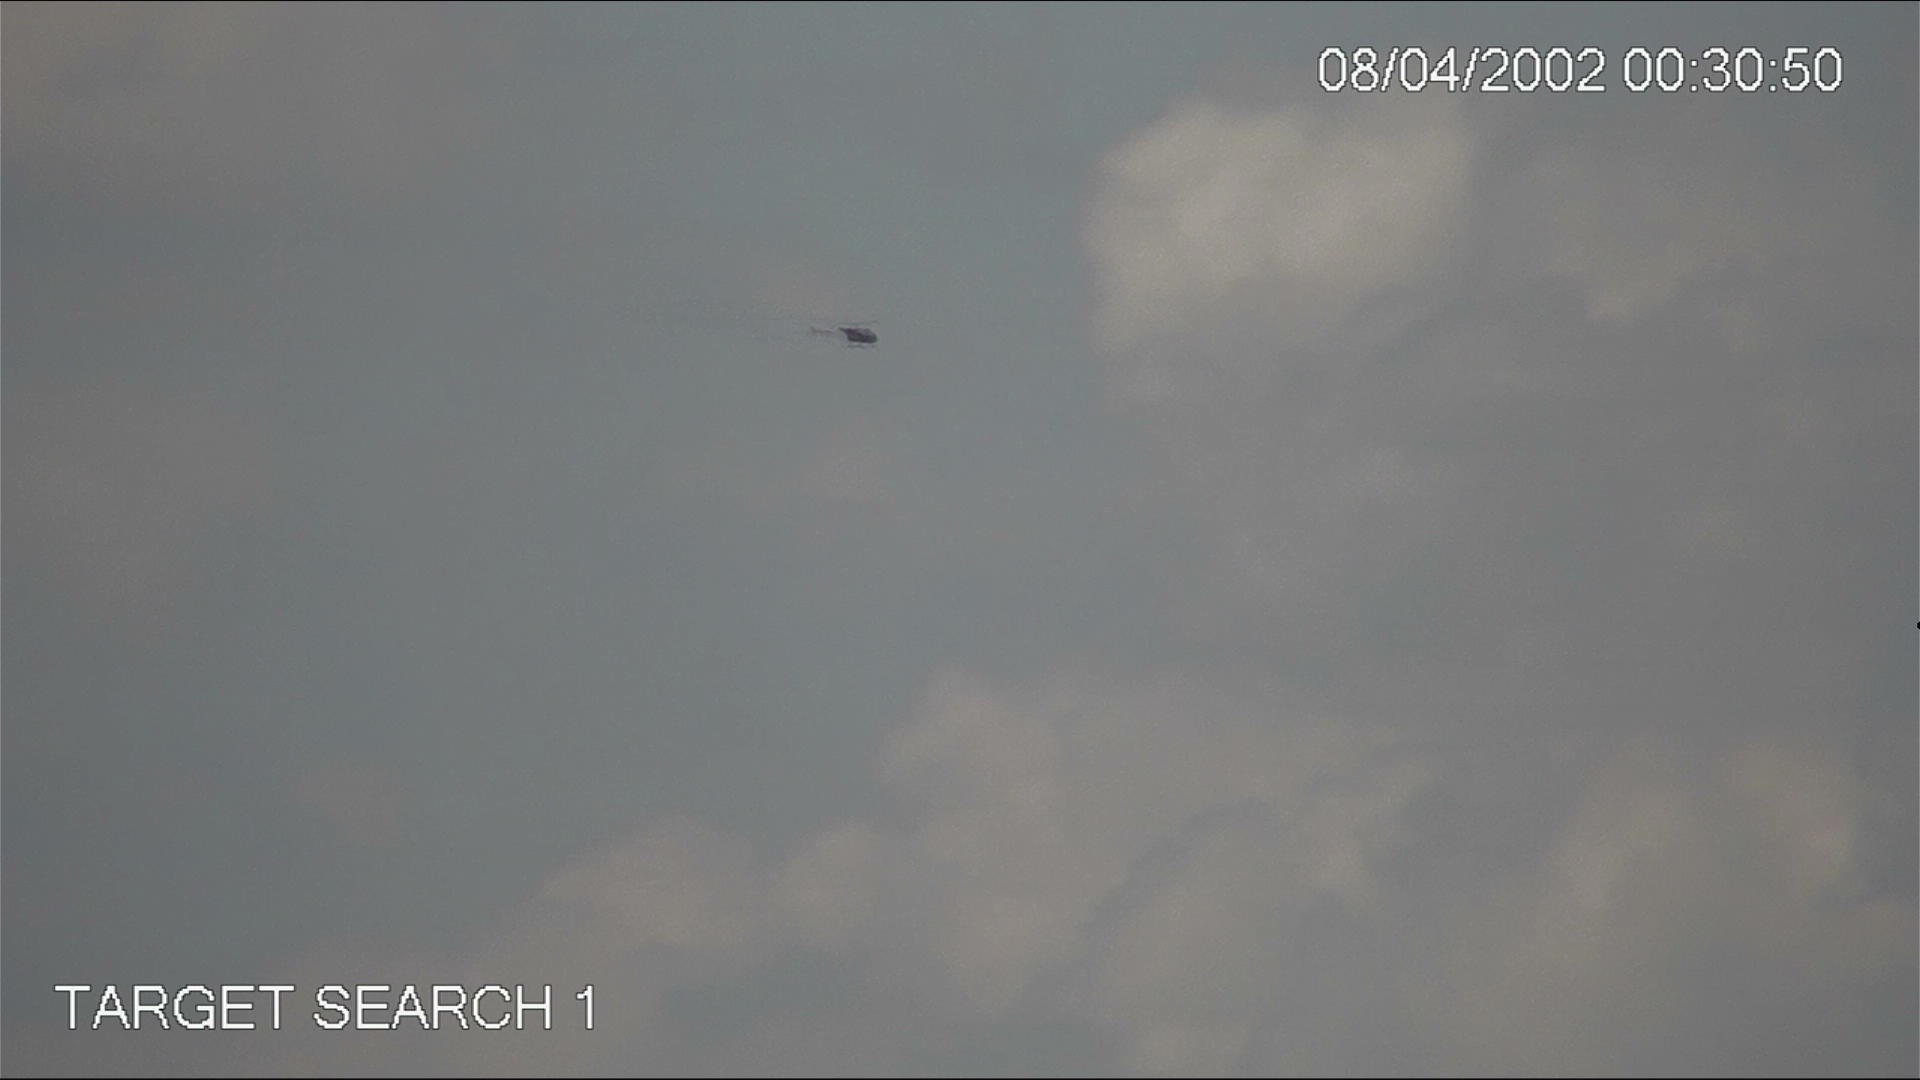SU_30: (806, 316, 887, 357)
